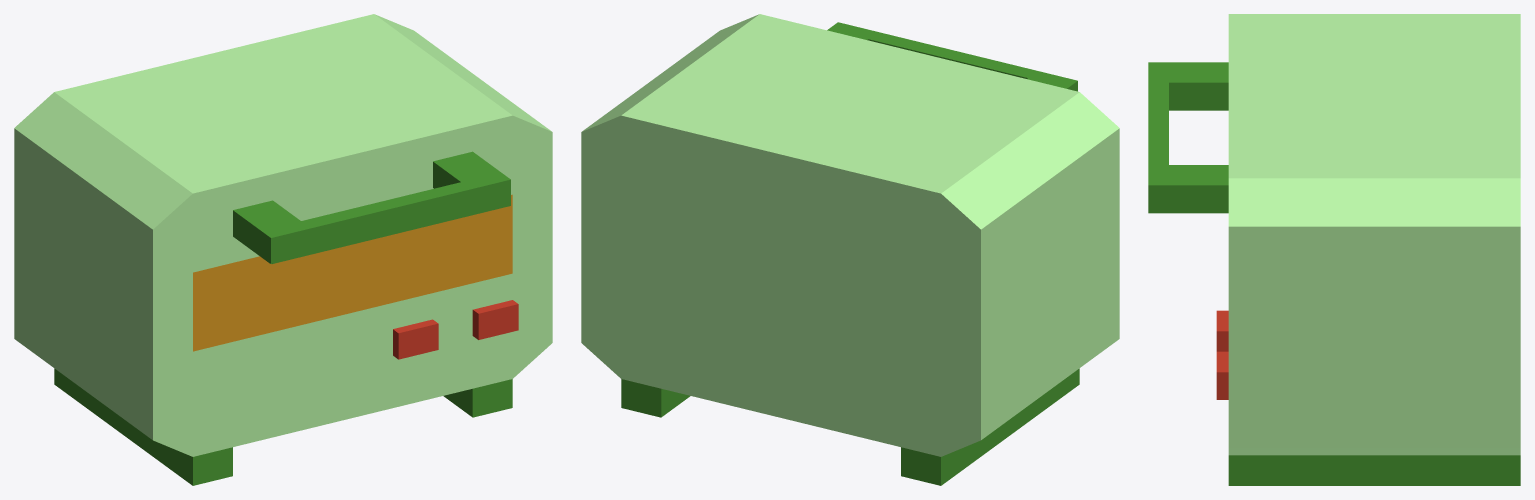
The model's file is oven_2.fbx.
3 views of the same model, side by side, from view 1: azimuth 30°, elevation 25°; view 2: azimuth 150°, elevation 25°; view 3: azimuth 270°, elevation 25° (orthographic). The views are drawn at different scales.
Parts seen in each view (by area): view 1: pPlane1; view 2: pPlane1; view 3: pPlane1.
Part boxes in pixels (bbox=[...]): pPlane1: bbox=[14, 14, 552, 485]; pPlane1: bbox=[581, 14, 1119, 485]; pPlane1: bbox=[1148, 14, 1520, 485].
Bounding box in the file's own units: 1854 × 1296 × 1421.
Materials: 1 (1 with a texture image).
